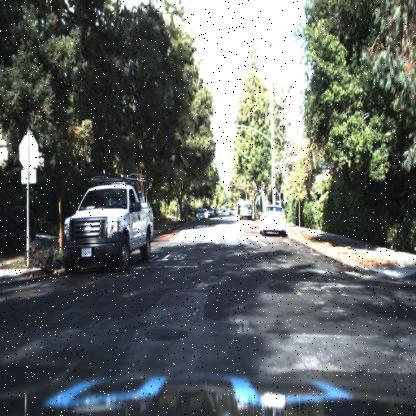car: (47, 163, 159, 289), (252, 198, 290, 245), (237, 200, 255, 228), (192, 208, 204, 225), (195, 208, 206, 223)
